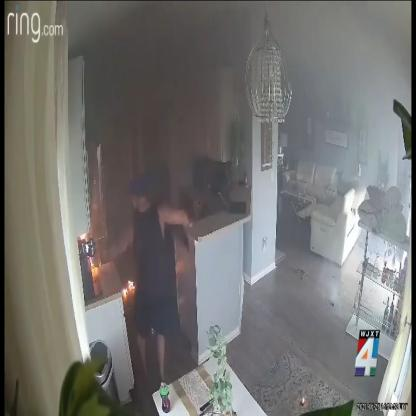fire: (123, 280, 135, 296)
